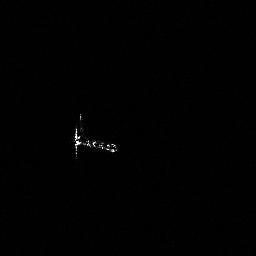ship: (72, 127, 119, 157)
